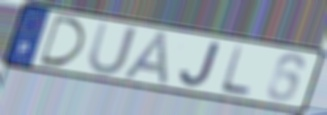6: (265, 52, 307, 103)
A: (119, 30, 172, 88)
D: (38, 13, 88, 68)
J: (178, 40, 223, 88)
L: (217, 43, 254, 99)
U: (85, 20, 140, 77)
